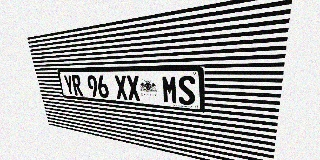6: (96, 75, 109, 98)
9: (86, 75, 99, 97)
M: (161, 75, 178, 104)
R: (71, 75, 83, 96)
S: (178, 76, 195, 106)
X: (126, 75, 141, 101), (114, 75, 128, 100)
Y: (63, 75, 75, 95)
